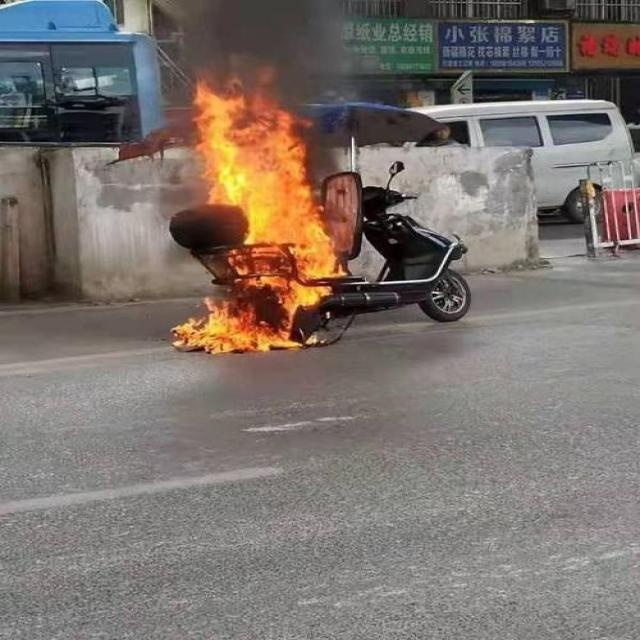Fire: (192, 77, 306, 202), (168, 276, 299, 354), (242, 202, 334, 276)
Smoke: (184, 1, 349, 73)
